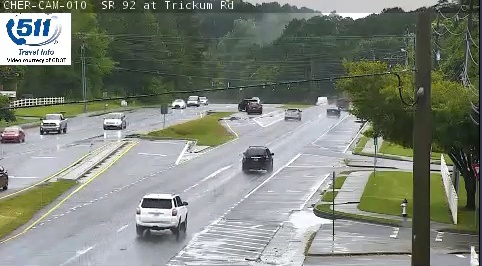car: (136, 193, 187, 229), (242, 147, 273, 169), (284, 107, 302, 120)
